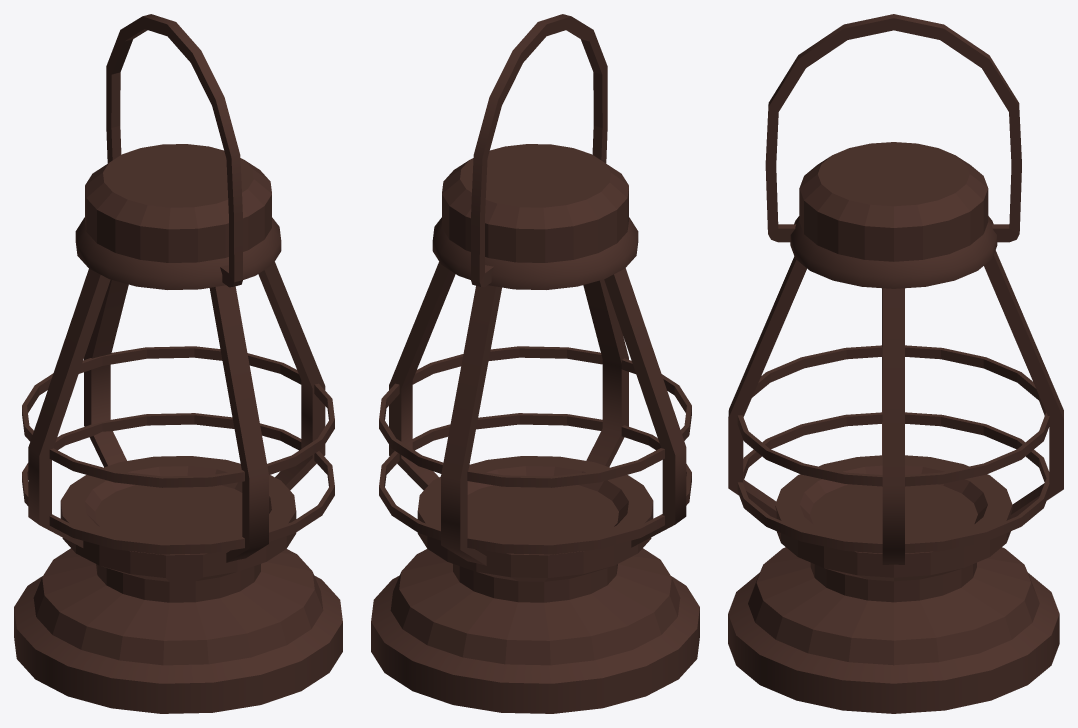
File: lantern.fbx
The picture shows the model from 3 angles, left to right: view 1: azimuth 30°, elevation 25°; view 2: azimuth 150°, elevation 25°; view 3: azimuth 270°, elevation 25°; orthographic projection.
Parts seen in each view (by area): view 1: lantern2_object; view 2: lantern2_object; view 3: lantern2_object.
Part boxes in pixels (x1,y1,x2,y2): lantern2_object: [14, 14, 342, 713]; lantern2_object: [371, 14, 699, 713]; lantern2_object: [728, 14, 1063, 713].
Bounding box in the file's own units: 2.01 × 4.16 × 2.03.
